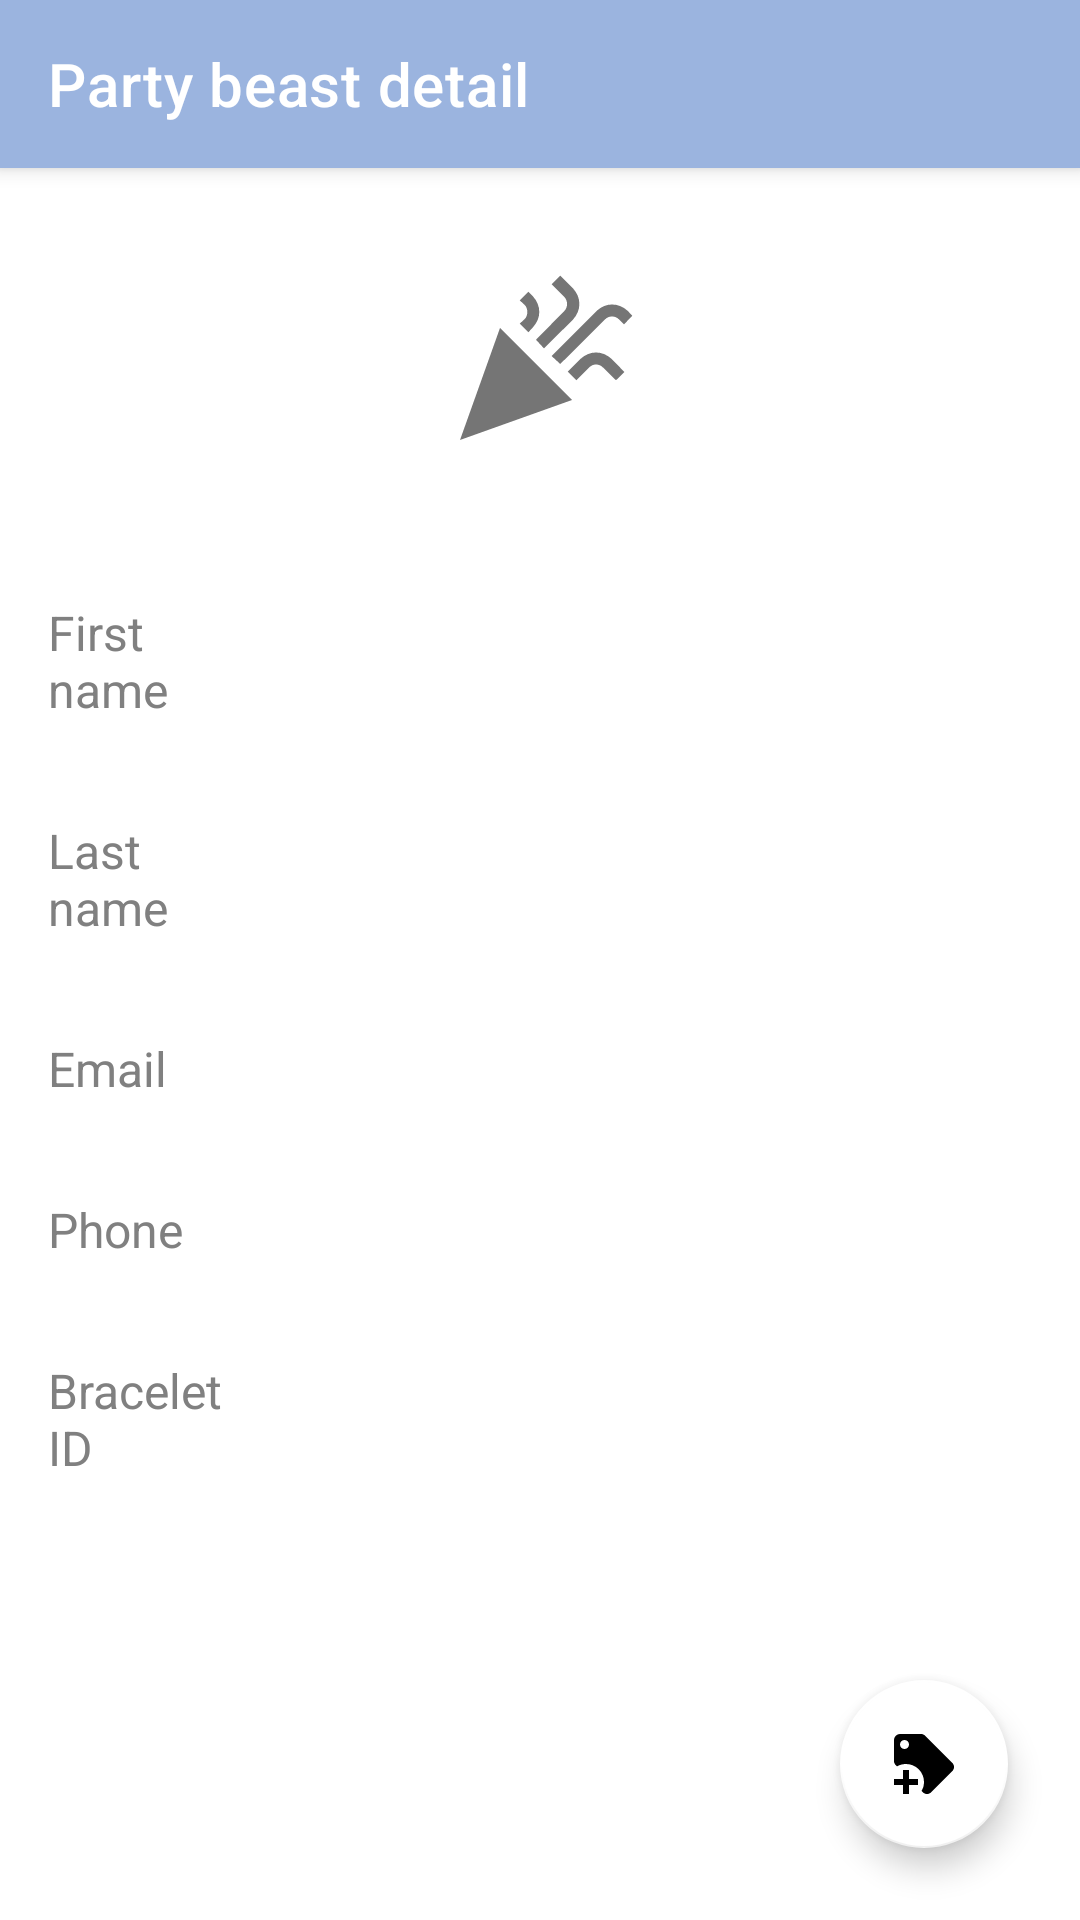

Icon click points for this 1080w x 1920h phone screenshot, format (x=x, y=y):
Button to assign a bracelet to the selected participant: (x=899, y=1765)
